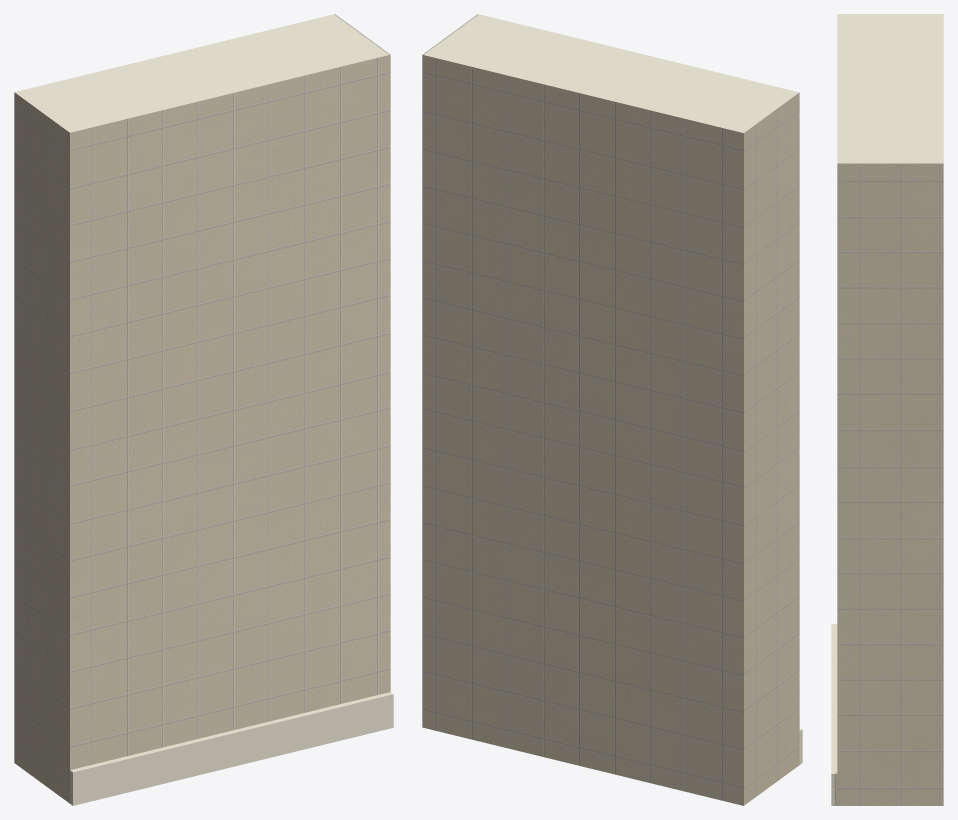
The model's file is Wall.fbx.
3 views of the same model, side by side, from view 1: azimuth 30°, elevation 25°; view 2: azimuth 150°, elevation 25°; view 3: azimuth 270°, elevation 25° (orthographic). The views are drawn at different scales.
Visible parts, largest first — view 1: Wall; view 2: Wall; view 3: Wall.
Boxes of the visible parts, x1,y1,x2,y2 form: Wall: (14,14,393,805); Wall: (422,14,802,805); Wall: (831,14,943,805).
Size of the model in its own units: 200 by 400 by 63.3.
Materials: 1 (1 with a texture image).
